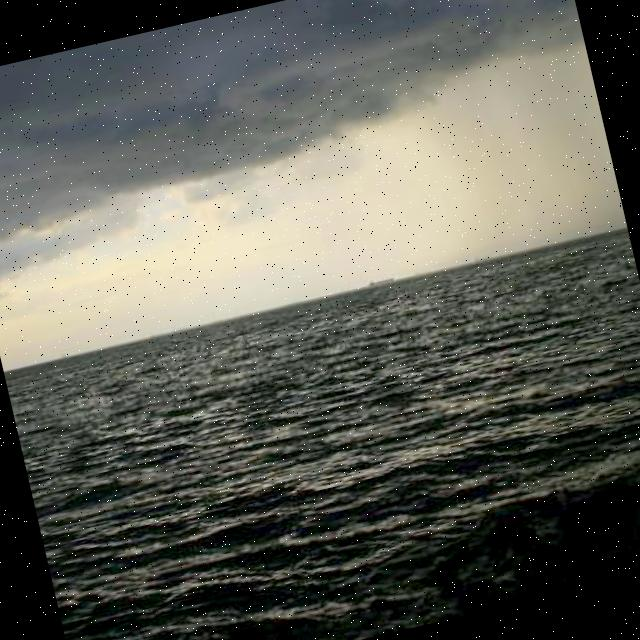Ns: (1, 1, 609, 289)
